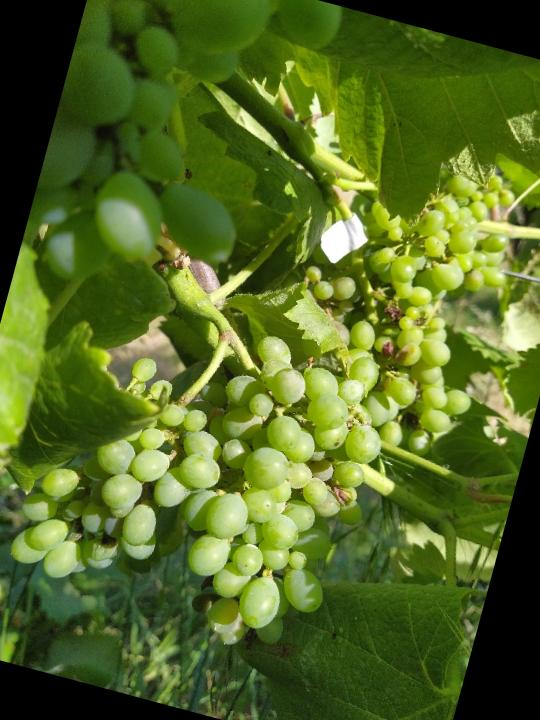grape: (0, 283, 406, 674)
